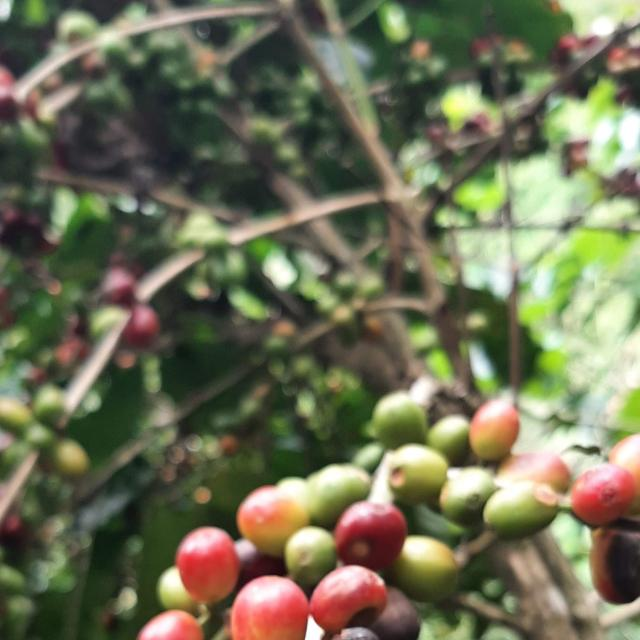green: (386, 537, 459, 603), (484, 482, 559, 541), (308, 465, 371, 529), (390, 444, 449, 505), (284, 527, 337, 590), (440, 468, 497, 526), (372, 392, 428, 450), (428, 415, 471, 466), (156, 567, 199, 616)
red: (591, 522, 640, 605), (234, 540, 286, 592), (370, 588, 421, 640), (331, 628, 380, 640)
yellow: (310, 567, 388, 635), (237, 487, 309, 559), (175, 527, 240, 606), (231, 577, 309, 640), (572, 463, 637, 528), (499, 451, 572, 494), (470, 400, 520, 462), (610, 435, 640, 515), (136, 611, 204, 640)
